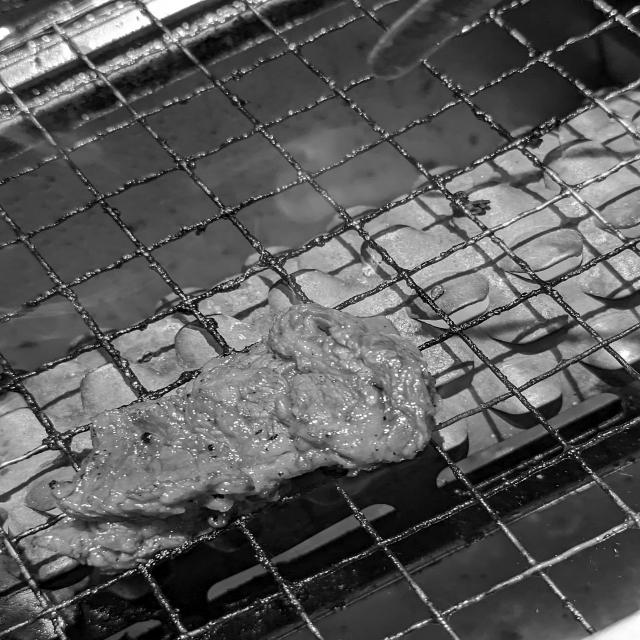OK cooked beef,: (16, 291, 465, 590)
